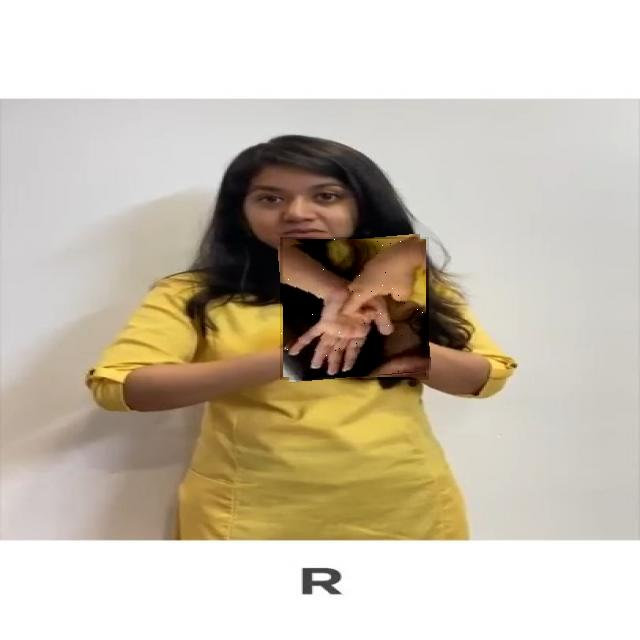R: (280, 237, 429, 380)
